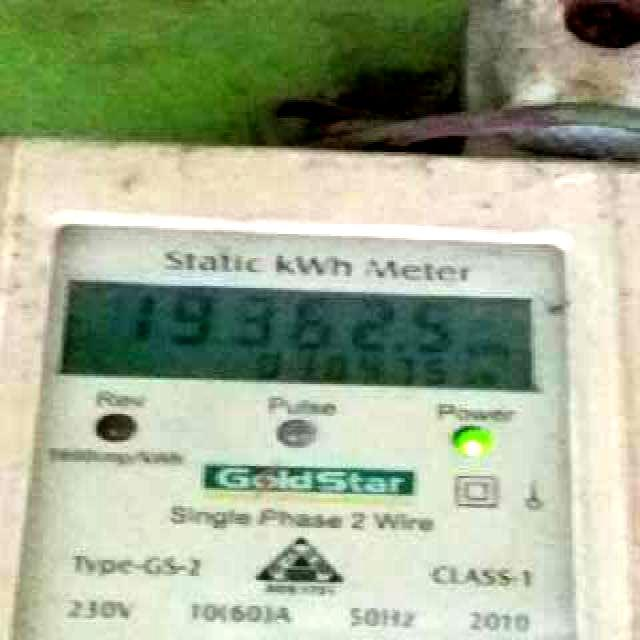LCD: (58, 275, 546, 404)
